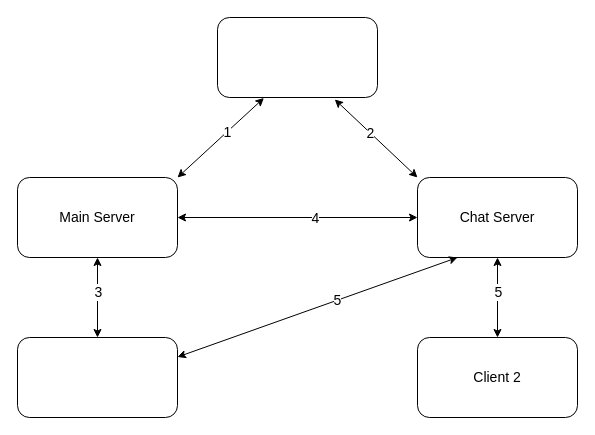
Some shapes in this 595 by 435 pixel diagram are drawn without their labels. Each missing label, with the centre of its shape:
Client 1: (97,377)
Database: (297,57)
